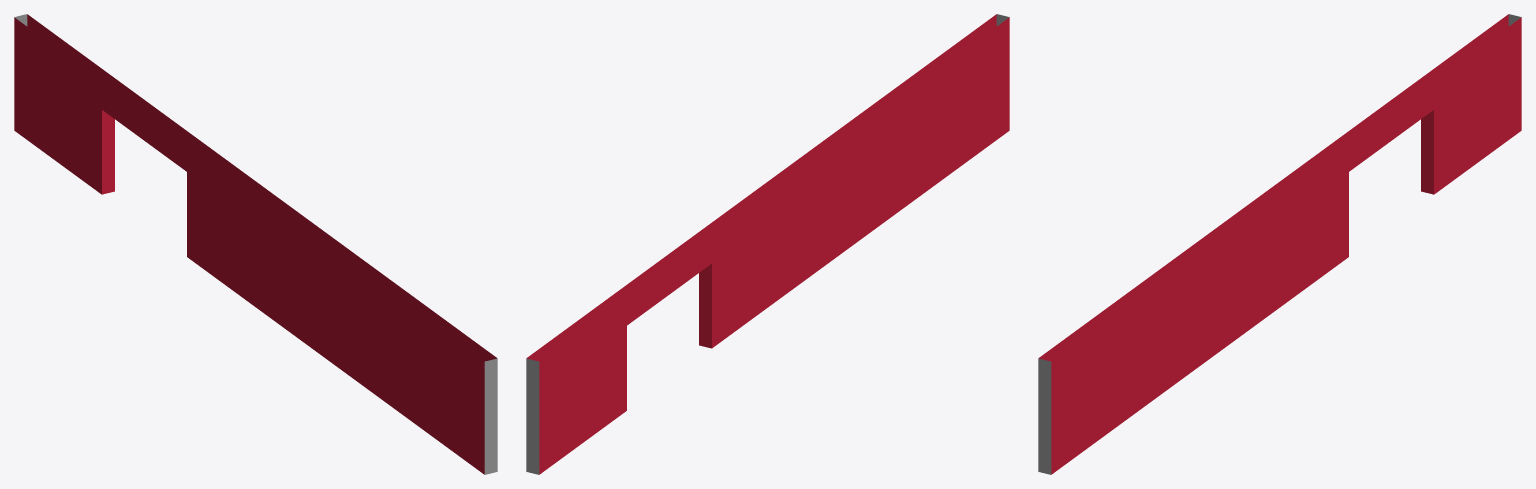
File: SM_LoungeWallMIddle_3_1.fbx
The picture shows the model from 3 angles, left to right: view 1: azimuth 30°, elevation 25°; view 2: azimuth 150°, elevation 25°; view 3: azimuth 330°, elevation 25°; orthographic projection.
Parts seen in each view (by area): view 1: SM_LoungeWallMIddle_3_1; view 2: SM_LoungeWallMIddle_3_1; view 3: SM_LoungeWallMIddle_3_1.
Boxes of the visible parts, x1=… form: SM_LoungeWallMIddle_3_1: x1=14, y1=14, x2=497, y2=474; SM_LoungeWallMIddle_3_1: x1=526, y1=14, x2=1009, y2=474; SM_LoungeWallMIddle_3_1: x1=1038, y1=14, x2=1521, y2=474.
Bounding box in the file's own units: 60 × 500 × 3760.
